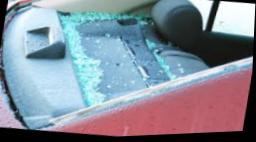Windshield: (0, 0, 255, 130)
